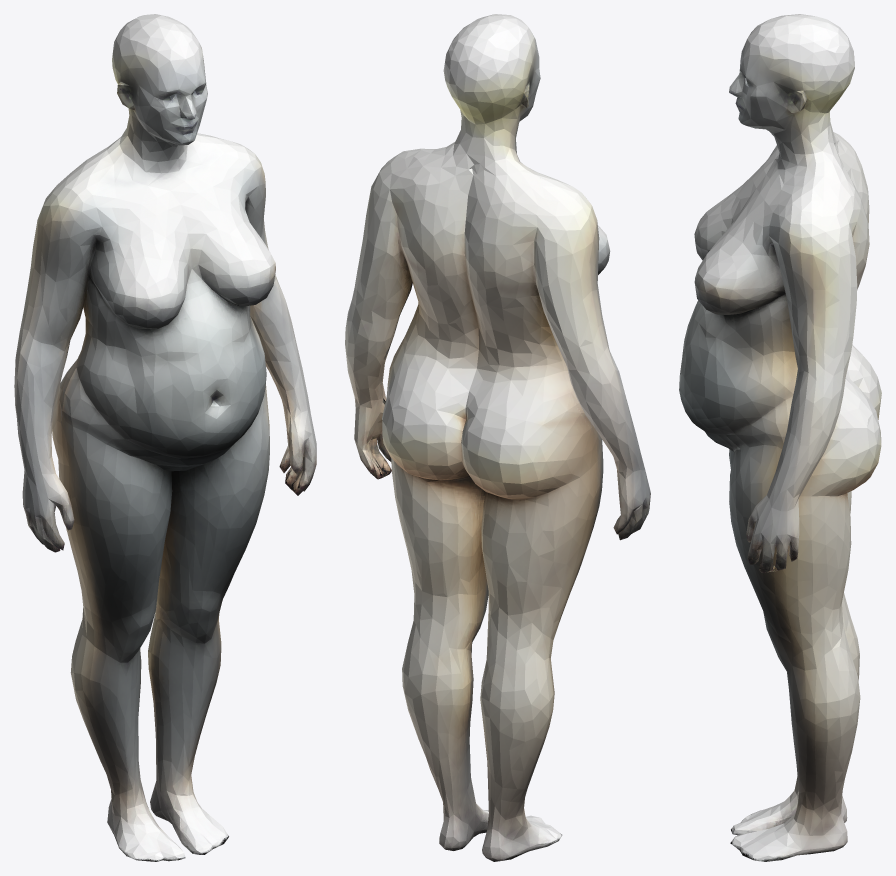
File: Overweight_Apple.glb
3 views of the same model, side by side, from view 1: azimuth 30°, elevation 25°; view 2: azimuth 150°, elevation 25°; view 3: azimuth 270°, elevation 25° (orthographic).
Parts seen in each view (by area): view 1: world; view 2: world; view 3: world.
Boxes of the visible parts, box(x1,y1,x2,y2) form: world: box(14, 14, 316, 861); world: box(345, 14, 650, 861); world: box(679, 14, 881, 861).
Bounding box in the file's own units: 0.3634 × 0.9987 × 0.2234.
1 material, 1 textured.
